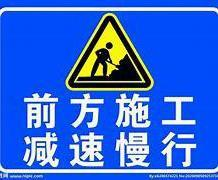sign: (1, 3, 217, 177)
